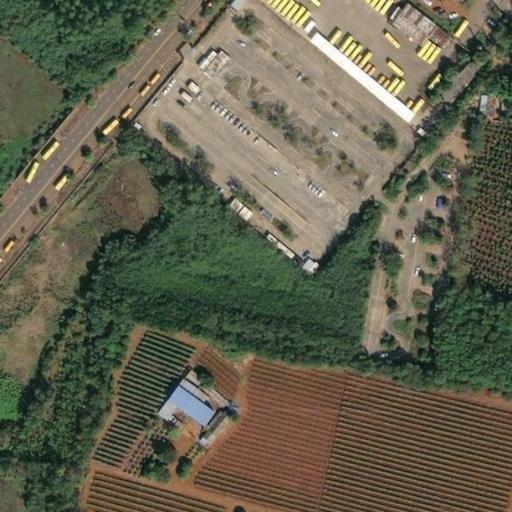building: (296, 31, 400, 119), (154, 370, 223, 438), (429, 57, 472, 104), (191, 50, 217, 78), (414, 24, 438, 47), (476, 88, 496, 114), (289, 258, 302, 272), (185, 57, 198, 70), (193, 50, 204, 62), (388, 162, 399, 173), (468, 94, 475, 103)
